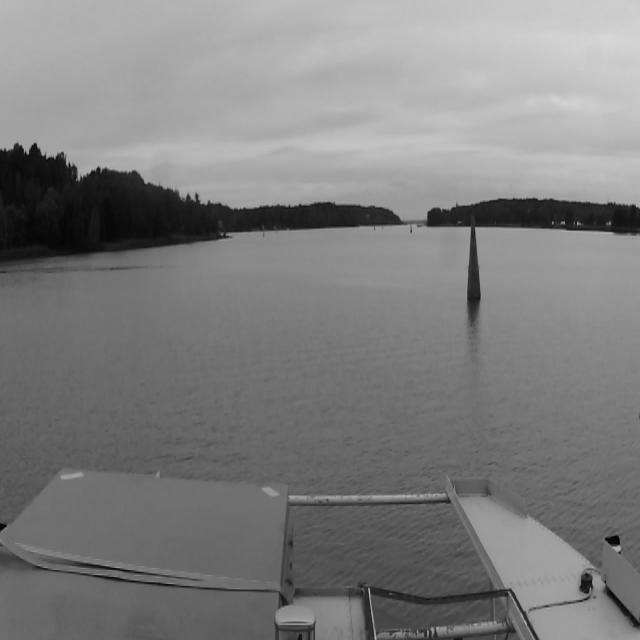buoy: (466, 216, 481, 300), (410, 225, 412, 233), (262, 230, 264, 238), (374, 224, 376, 230), (276, 227, 278, 233), (382, 224, 384, 228)
